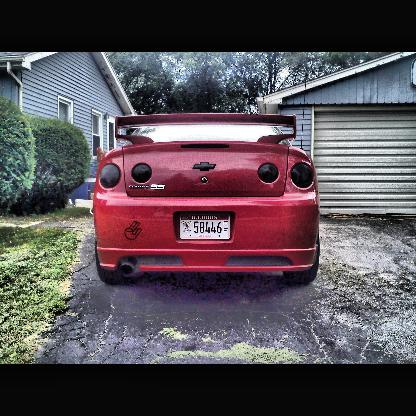Chevrolet Cobalt SS 2010: (92, 112, 322, 288)
